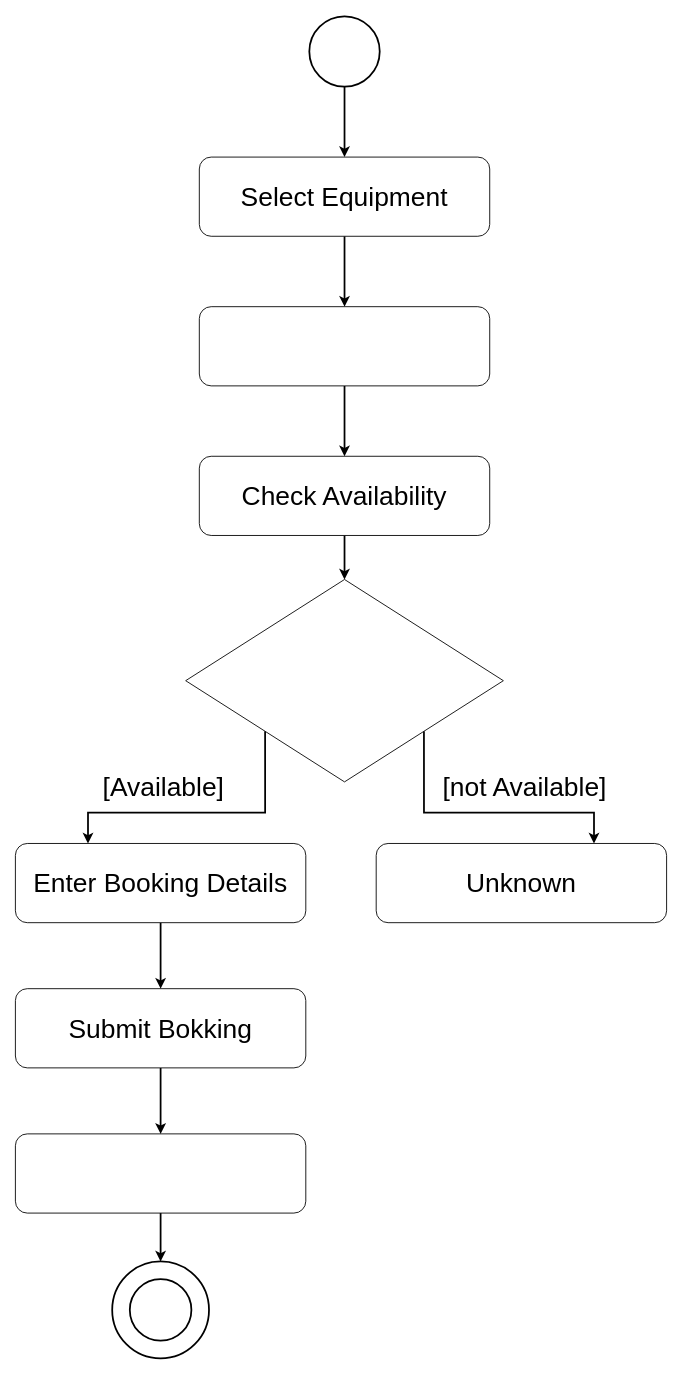
Some shapes in this 682 by 1374 pixel diagram are drawn without their labels. The shapes that lost their labels are listed below. From the top down, each one's centre as x and y in pixels, then its label:
(x=344, y=346): Select Date
(x=344, y=680): Is Equipment Available?
(x=160, y=1173): Booking Recored
